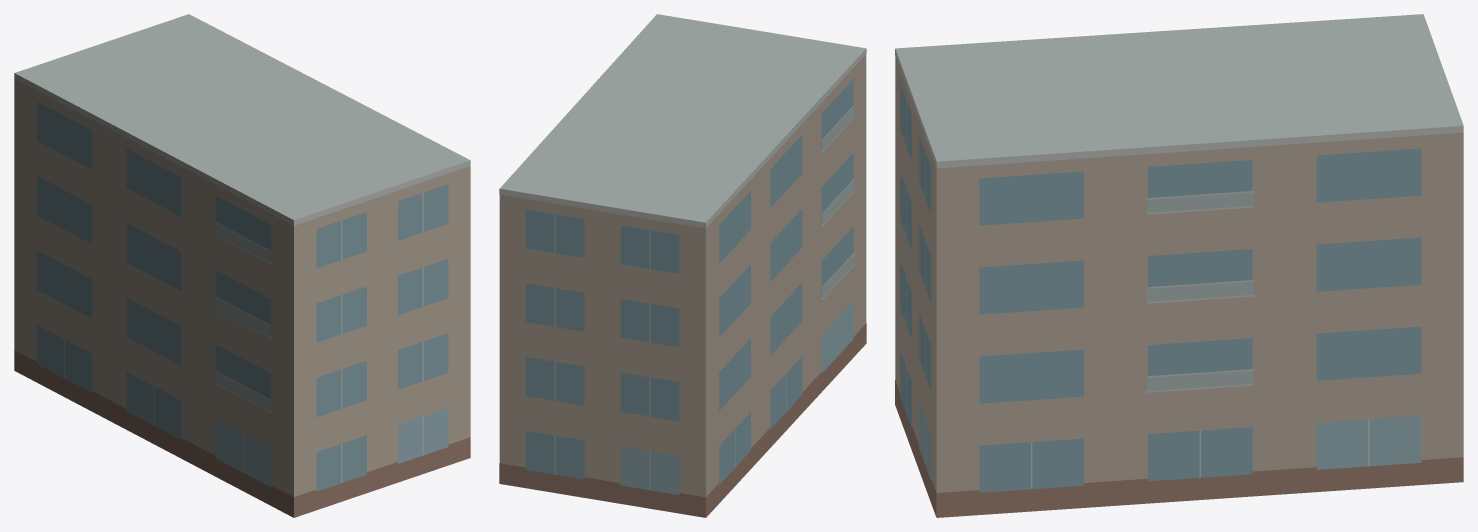
Rendered from survey-upis-32730914.glb.
The picture shows the model from 3 angles, left to right: view 1: azimuth 30°, elevation 25°; view 2: azimuth 150°, elevation 25°; view 3: azimuth 270°, elevation 25°; orthographic projection. The views are drawn at different scales.
Parts seen in each view (by area): view 1: survey-upis-32730914.tmp; view 2: survey-upis-32730914.tmp; view 3: survey-upis-32730914.tmp.
Boxes of the visible parts, x1=… form: survey-upis-32730914.tmp: x1=14, y1=14, x2=470, y2=517; survey-upis-32730914.tmp: x1=499, y1=14, x2=866, y2=517; survey-upis-32730914.tmp: x1=895, y1=14, x2=1463, y2=517.
Bounding box in the file's own units: 11.37 × 12.78 × 18.5.
